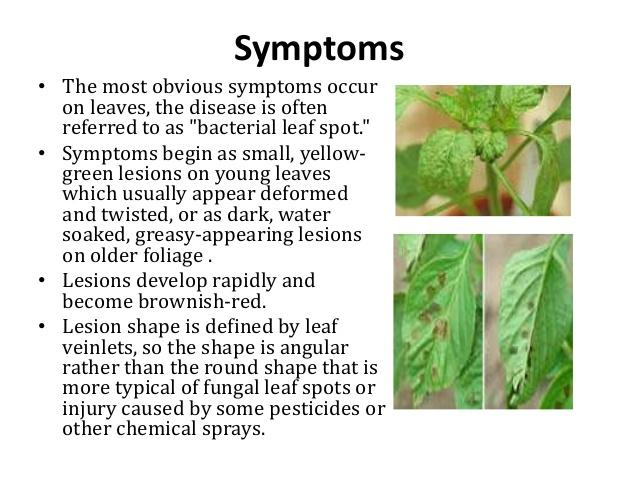Tomato leaf late blight: (496, 236, 569, 401), (404, 238, 476, 400), (417, 131, 480, 206)
